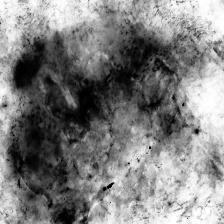Benign Marking or Mole: (16, 22, 224, 224)
